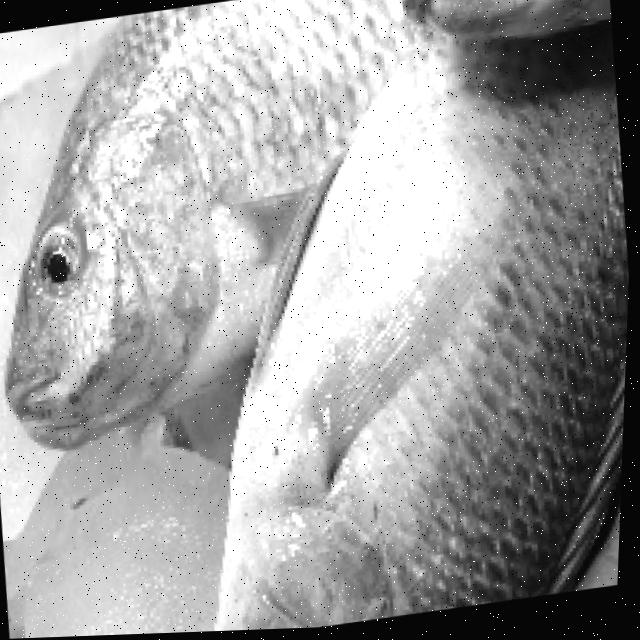Fresh: (11, 110, 285, 439)
